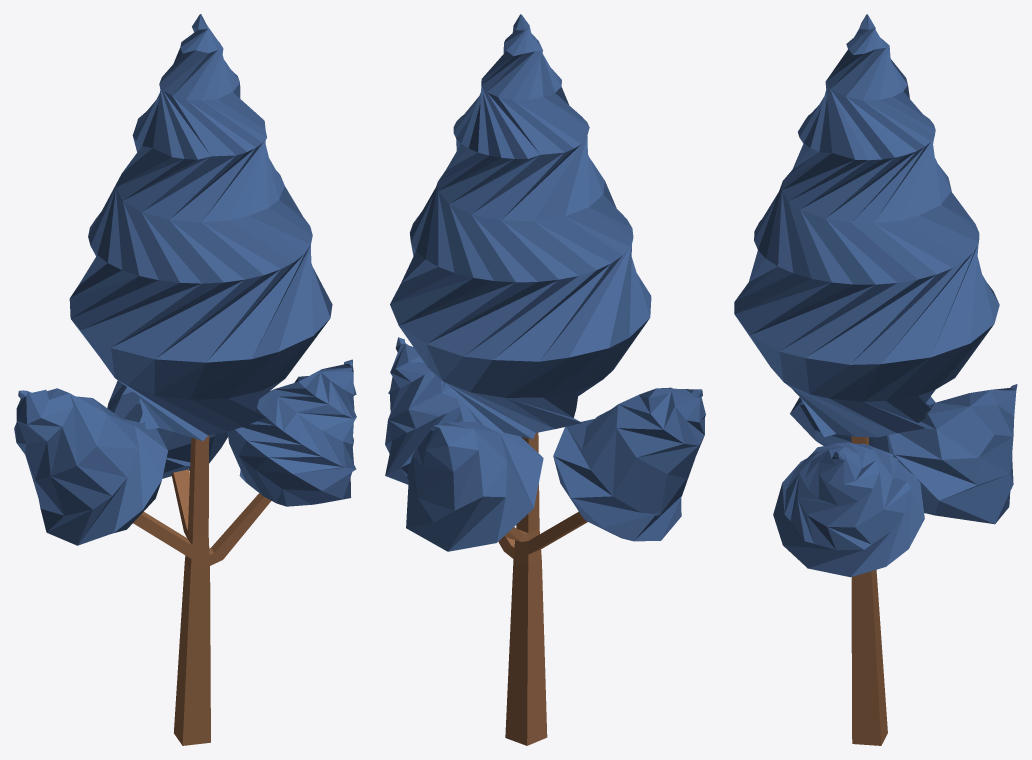
File: Tree_9.fbx
3 views of the same model, side by side, from view 1: azimuth 30°, elevation 25°; view 2: azimuth 150°, elevation 25°; view 3: azimuth 270°, elevation 25° (orthographic).
Parts seen in each view (by area): view 1: Tree_9_LOD0; view 2: Tree_9_LOD0; view 3: Tree_9_LOD0.
Boxes of the visible parts, x1=… form: Tree_9_LOD0: x1=14, y1=14, x2=356, y2=745; Tree_9_LOD0: x1=385, y1=14, x2=705, y2=745; Tree_9_LOD0: x1=734, y1=14, x2=1017, y2=745.
Size of what is drawn, in the model's own units: 105 by 225 by 79.33.
